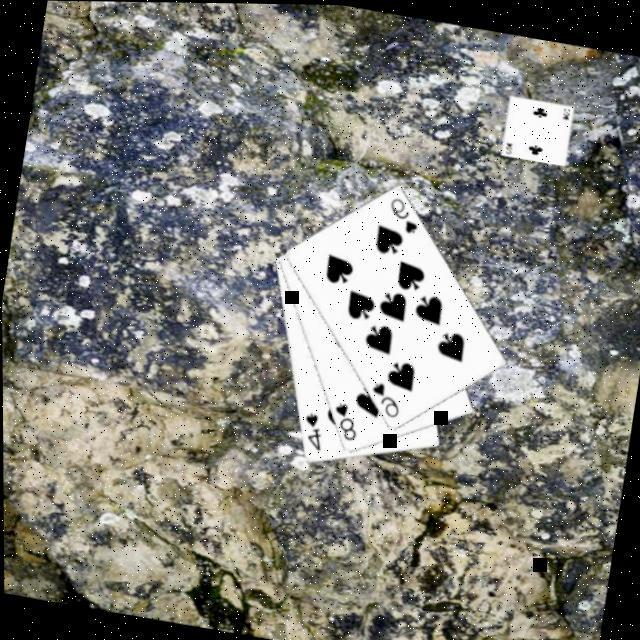4S: (297, 406, 329, 452)
8S: (327, 396, 364, 442)
9S: (383, 190, 425, 235), (365, 375, 407, 418)
